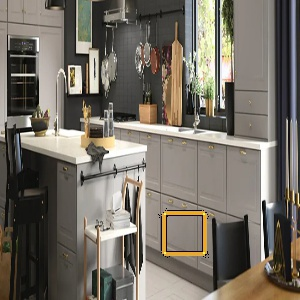square: (158, 207, 211, 260)
